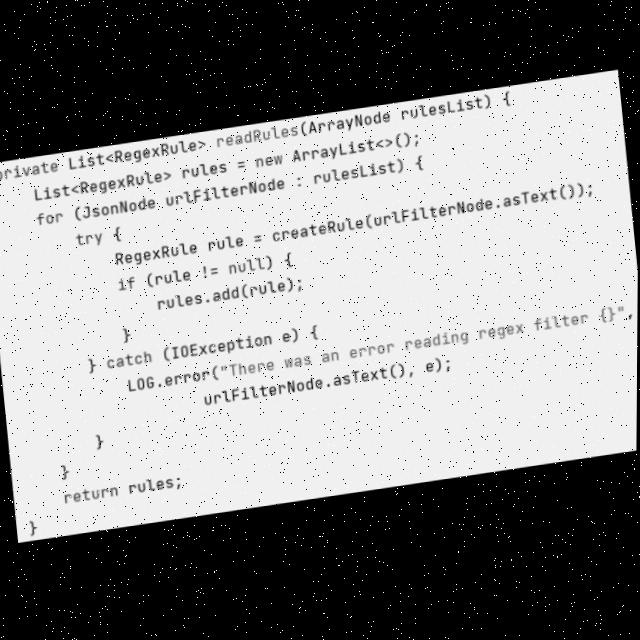code_screen: (0, 71, 638, 540)
